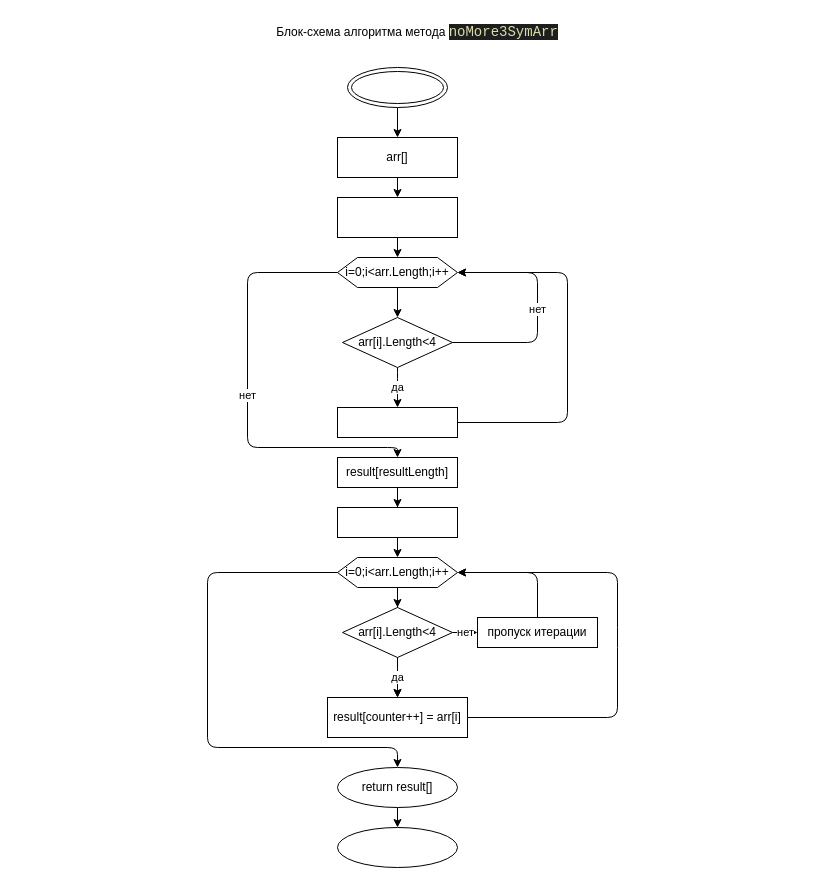
Some shapes in this 834 by 885 pixel diagram are drawn without their labels. The shapes that lost their labels are listed below. From the top down, each one's centre as x and y in pixels, then its label:
At point 397,87: "начало".
At point 397,217: "resultLength = 0".
At point 397,422: "resultLength++".
At point 397,522: "counter=0".
At point 397,847: "конец".
